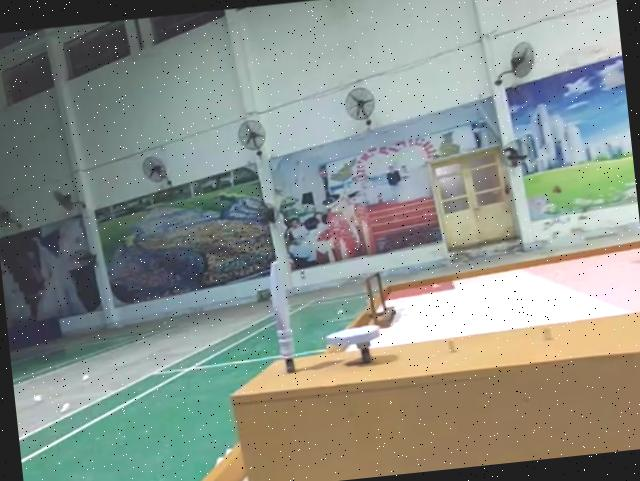Hand: (323, 324, 379, 361)
Sph: (265, 261, 299, 376)
